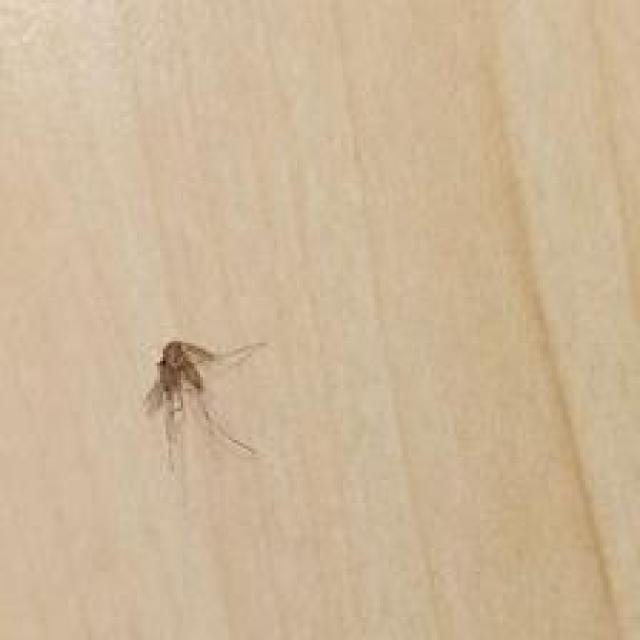Culex: (140, 337, 269, 474)
